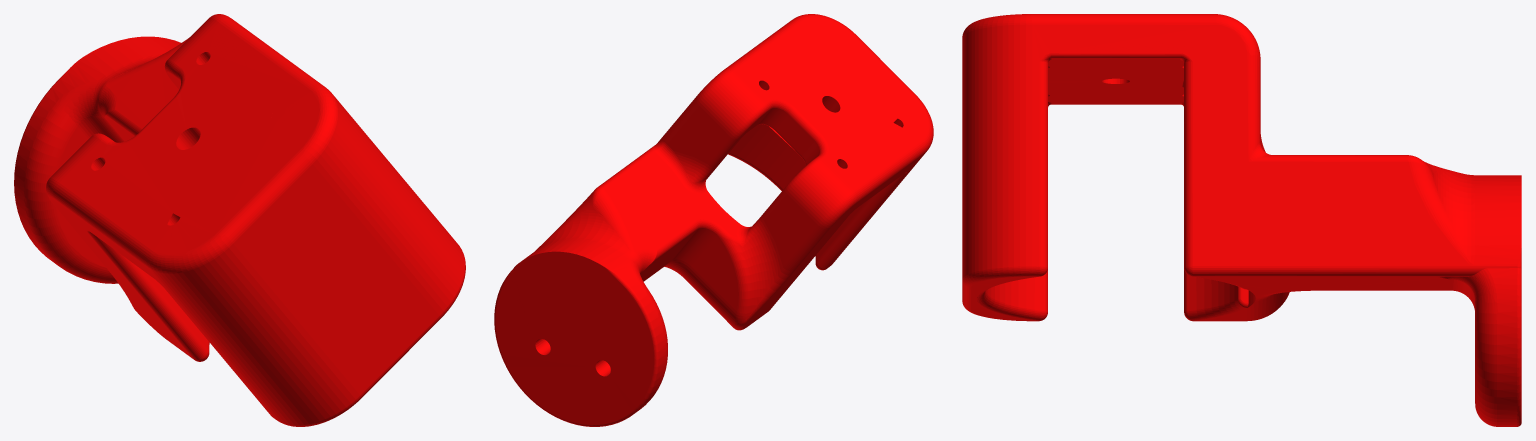
File: head_1_neck_1.glb
3 renders of one model, left to right at view 1: azimuth 30°, elevation 25°; view 2: azimuth 150°, elevation 25°; view 3: azimuth 270°, elevation 25°, orthographic. The views are drawn at different scales.
Parts seen in each view (by area): view 1: head_1_neck_1.obj; view 2: head_1_neck_1.obj; view 3: head_1_neck_1.obj.
Part boxes in pixels (x1,y1,x2,y2): head_1_neck_1.obj: (14, 14, 465, 426); head_1_neck_1.obj: (494, 14, 933, 426); head_1_neck_1.obj: (962, 14, 1521, 426).
Bounding box in the file's own units: 0.0817 × 0.0886 × 0.12.
